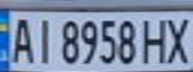5: (96, 16, 121, 65)
8: (115, 16, 142, 65), (57, 16, 81, 65)
9: (78, 16, 100, 65)
A: (3, 13, 36, 64)
H: (139, 16, 172, 65)
I: (30, 15, 57, 65)
X: (163, 13, 193, 64)
